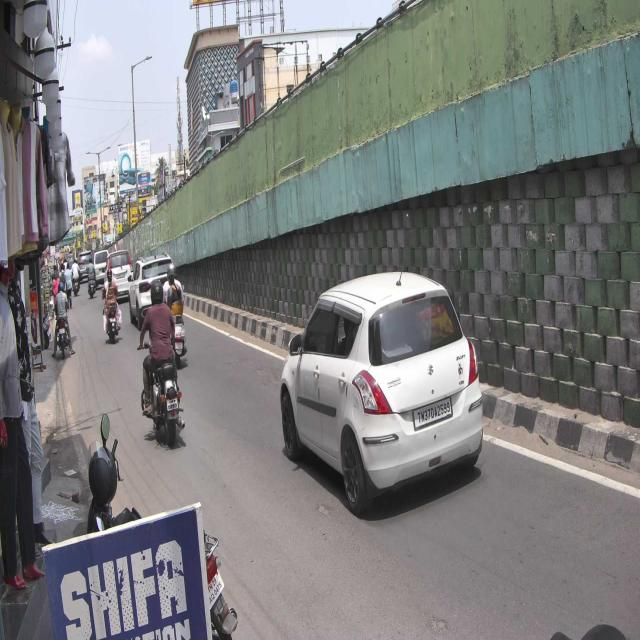single_rider: (137, 276, 188, 451)
